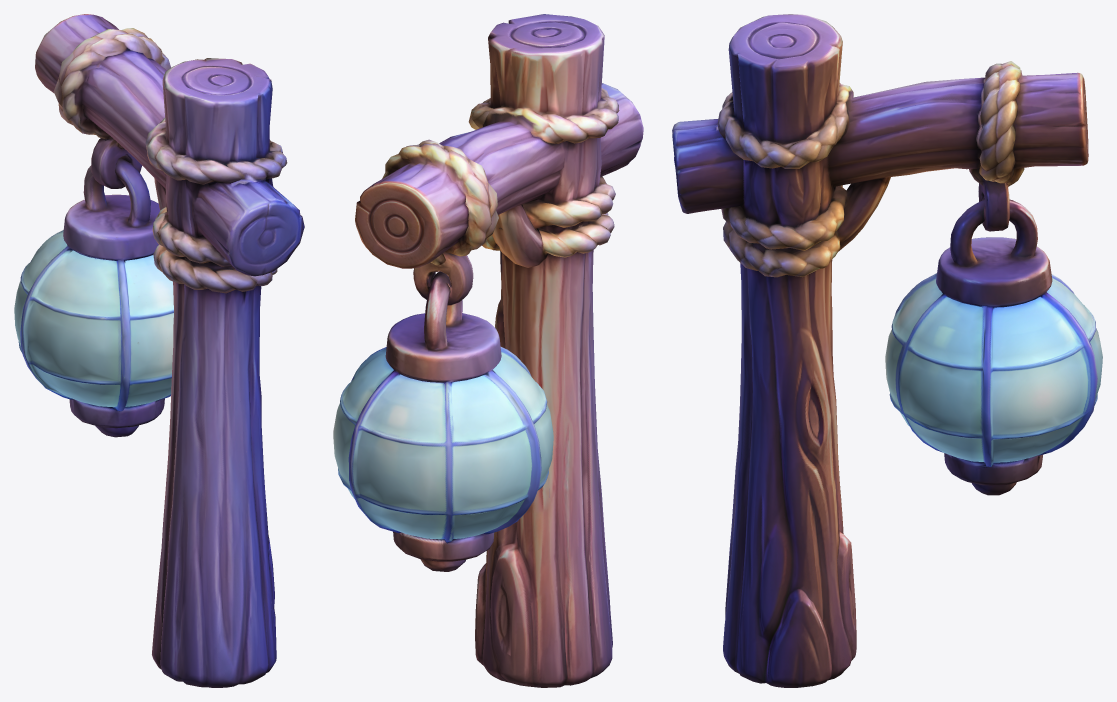
The model's file is Kit_H_LanternPost_HD_src.glb.
3 renders of one model, left to right at view 1: azimuth 30°, elevation 25°; view 2: azimuth 150°, elevation 25°; view 3: azimuth 270°, elevation 25°, orthographic. The views are drawn at different scales.
Visible parts, largest first — view 1: tripo_node_e5374479-892b-4c69-a6ca-f9143febd2b6; view 2: tripo_node_e5374479-892b-4c69-a6ca-f9143febd2b6; view 3: tripo_node_e5374479-892b-4c69-a6ca-f9143febd2b6.
Boxes of the visible parts, x1,y1,x2,y2 form: tripo_node_e5374479-892b-4c69-a6ca-f9143febd2b6: (14, 14, 304, 687); tripo_node_e5374479-892b-4c69-a6ca-f9143febd2b6: (333, 14, 643, 687); tripo_node_e5374479-892b-4c69-a6ca-f9143febd2b6: (672, 14, 1102, 687).
Bounding box in the file's own units: 0.3225 × 0.981 × 0.6092.
1 material, 1 textured.
